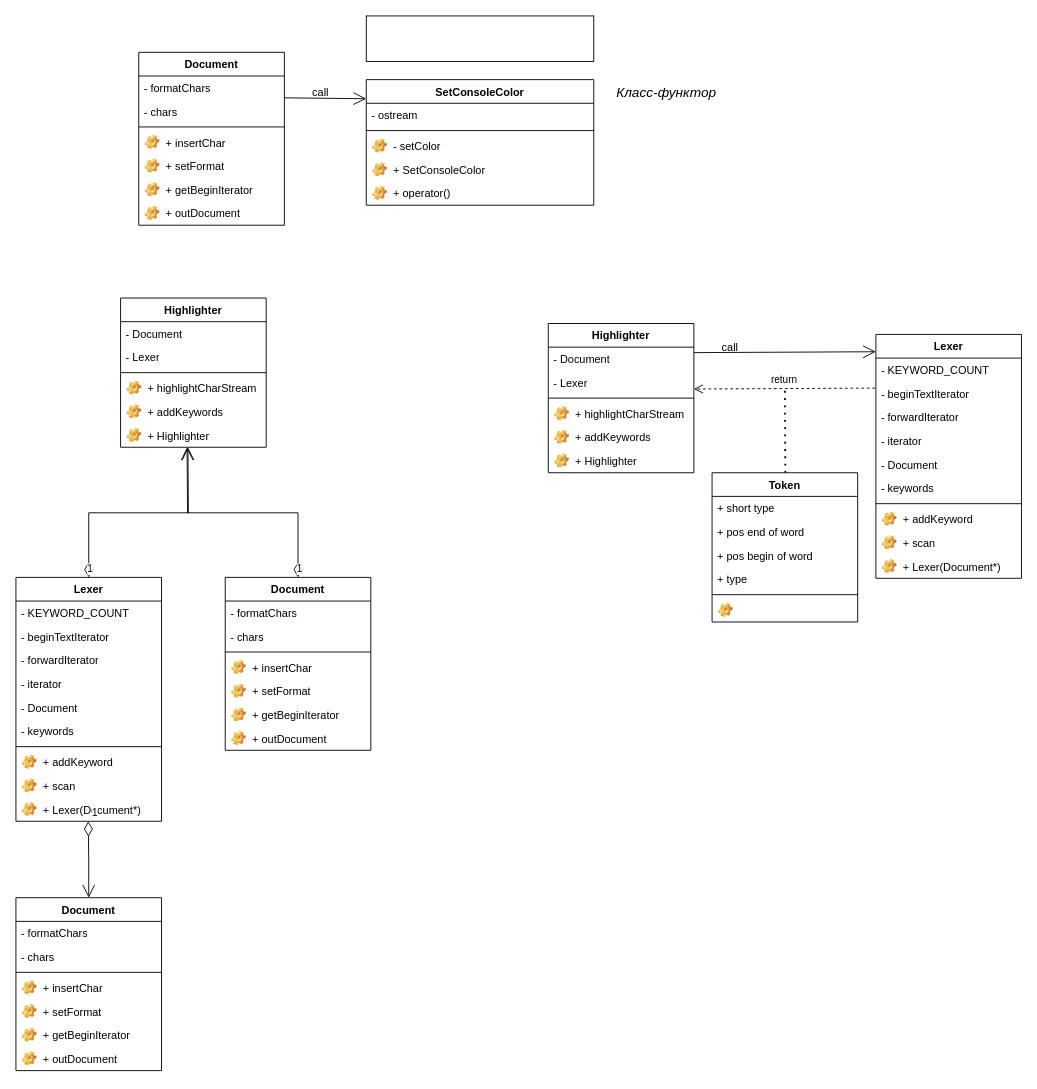
Image size: 1037x1089. Some labels were removed from this diagram. The centre of each missing label's shape, as x and y in pixels:
+ Token: the point at 784,610
«interface» Format: the point at 479,38
